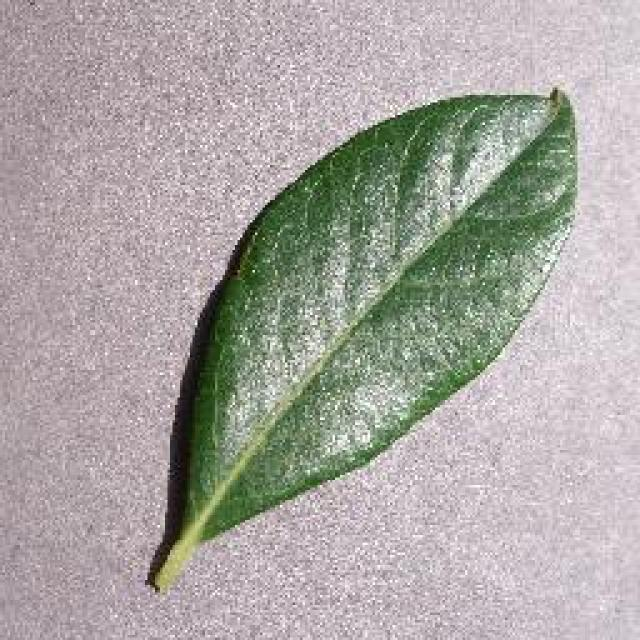Blu_healthy: (258, 146, 522, 460)
